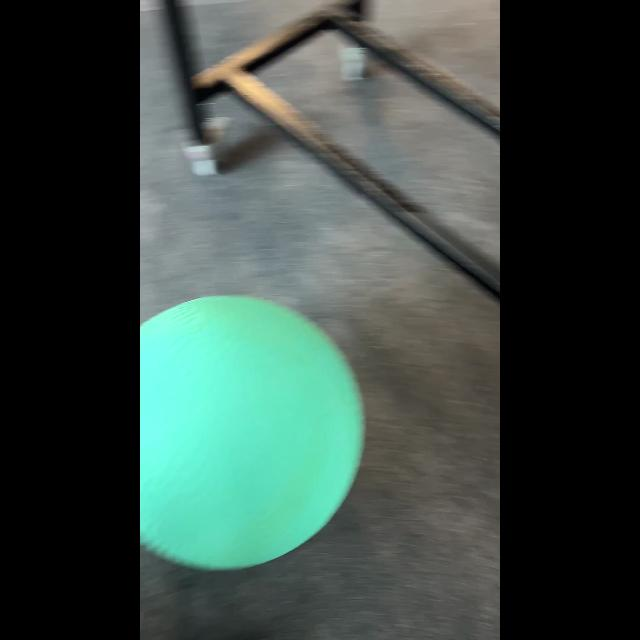ALGAE: (140, 294, 366, 572)
